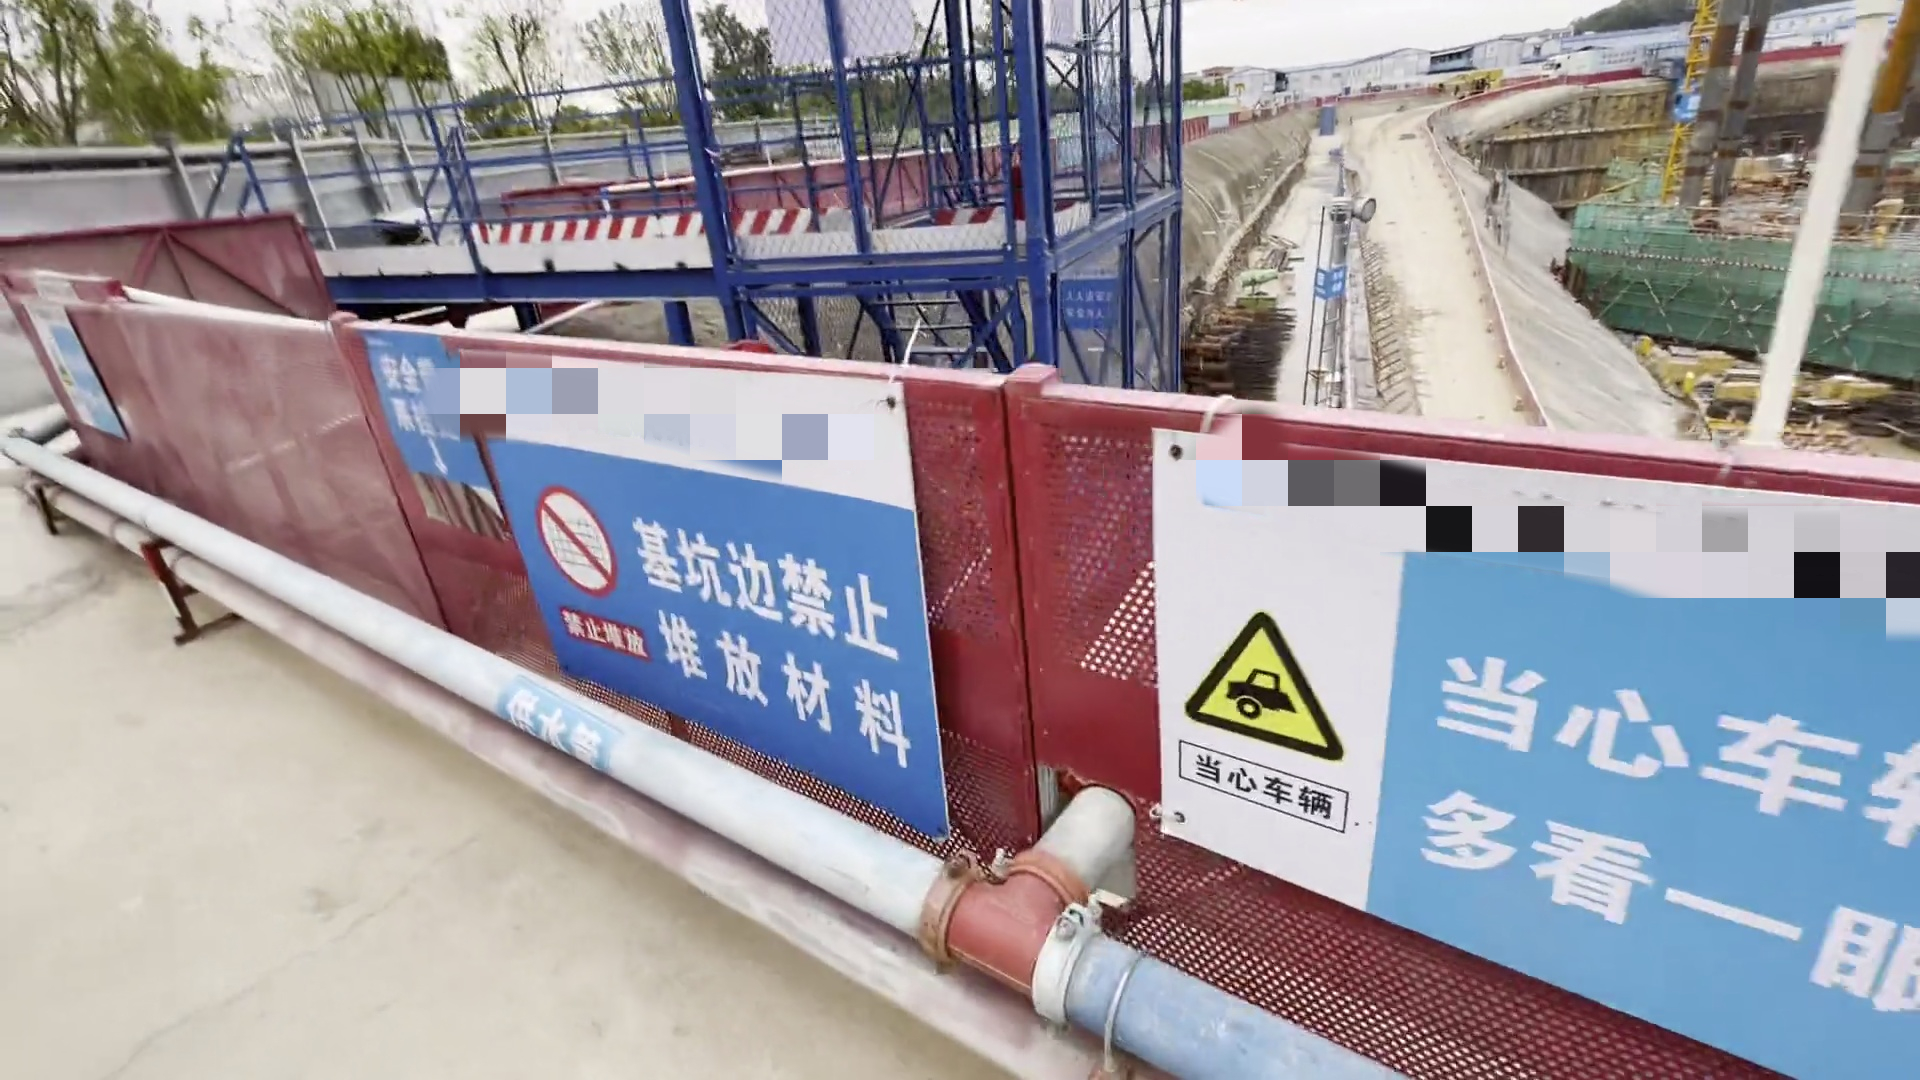fence: (80, 273, 1920, 1076), (702, 99, 1288, 222)
slogan: (1166, 448, 1920, 1022), (367, 332, 969, 853), (17, 294, 123, 440), (1043, 268, 1125, 339), (1308, 252, 1356, 309)
